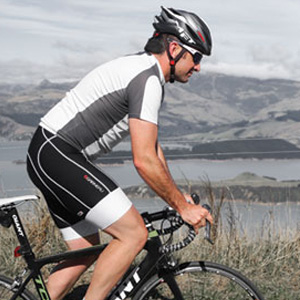helmet: (153, 0, 215, 56)
